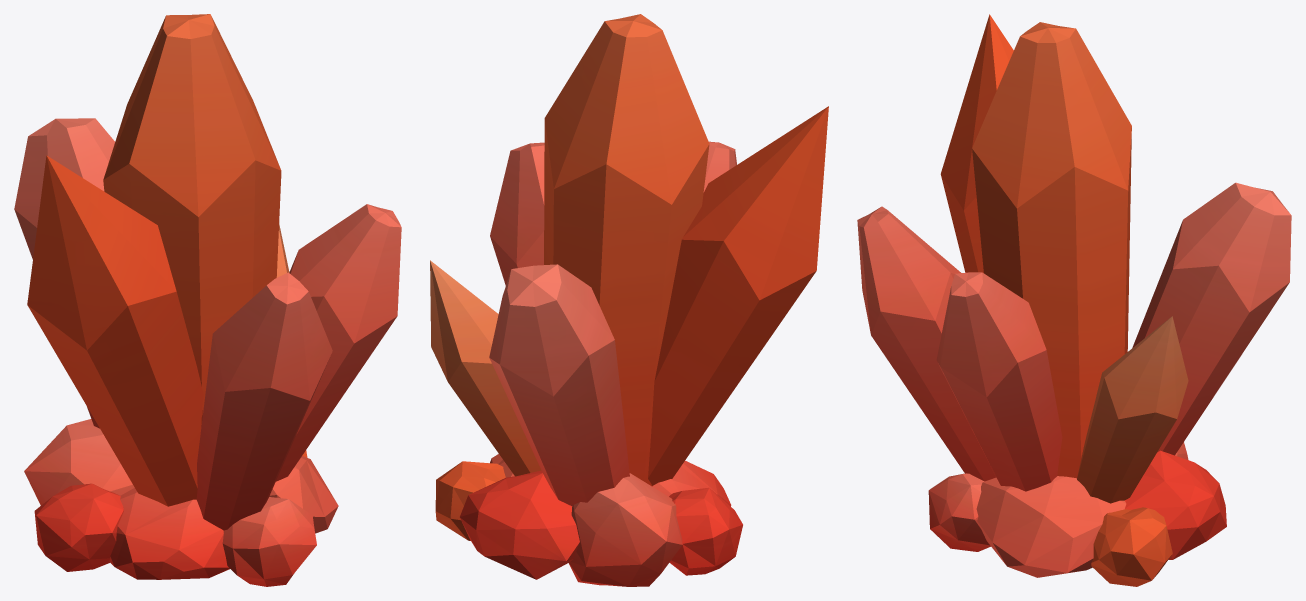
File: CrystalResource1.glb
3 renders of one model, left to right at view 1: azimuth 30°, elevation 25°; view 2: azimuth 150°, elevation 25°; view 3: azimuth 270°, elevation 25°, orthographic. The views are drawn at different scales.
Parts seen in each view (by area): view 1: Cube.014, CrystalResource1, Cube.017, Cube.016, Landscape.014, Landscape.018, Landscape.019, Cube.013, Landscape.017, Landscape.015; view 2: CrystalResource1, Cube.014, Cube.013, Cube.015, Landscape.017, Landscape.016, Cube.016, Landscape.018, Landscape.020, Landscape.014, Cube.017; view 3: CrystalResource1, Cube.013, Cube.016, Cube.017, Cube.015, Landscape.015, Cube.014, Landscape.016, Landscape.020, Landscape.019.
Boxes of the visible parts, x1,y1,x2,y2 form: Cube.014: (27, 155, 203, 506); CrystalResource1: (103, 14, 281, 426); Cube.017: (196, 272, 332, 530); Cube.016: (276, 204, 401, 481); Landscape.014: (109, 487, 229, 579); Landscape.018: (34, 483, 123, 571); Landscape.019: (222, 497, 316, 586); Cube.013: (14, 118, 114, 428); Landscape.017: (24, 419, 134, 505); Landscape.015: (269, 456, 338, 533); CrystalResource1: (544, 14, 709, 486); Cube.014: (648, 106, 828, 485); Cube.013: (489, 264, 629, 506); Cube.015: (430, 260, 541, 476); Landscape.017: (568, 473, 682, 586); Landscape.016: (460, 470, 579, 579); Cube.016: (490, 142, 544, 285); Landscape.018: (669, 487, 742, 575); Landscape.020: (435, 461, 505, 540); Landscape.014: (652, 460, 731, 506); Cube.017: (703, 141, 736, 192); CrystalResource1: (972, 22, 1131, 478); Cube.013: (1132, 182, 1291, 455); Cube.016: (936, 272, 1062, 491); Cube.017: (857, 206, 996, 481); Cube.015: (1077, 316, 1188, 503); Landscape.015: (976, 476, 1126, 577); Cube.014: (940, 14, 1013, 273); Landscape.016: (1124, 450, 1226, 559); Landscape.020: (1091, 507, 1172, 586); Landscape.019: (928, 473, 990, 551).
Bounding box in the file's own units: 0.4165 × 0.6335 × 0.4891.
1 material, 1 textured.
